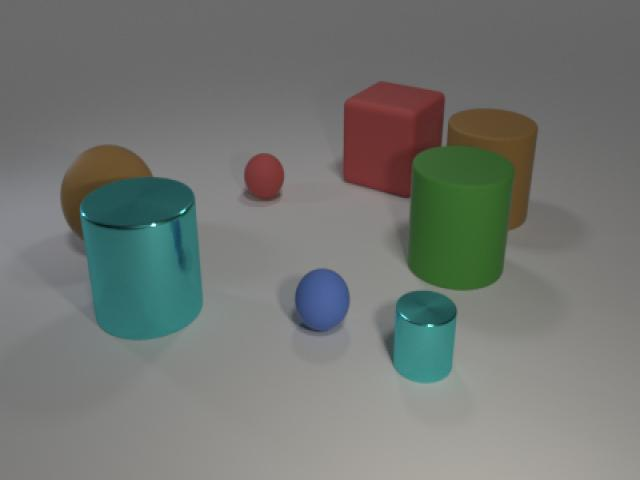cylinder: (72, 170, 212, 344), (404, 138, 514, 291), (447, 100, 540, 235), (388, 290, 462, 386)
round ball: (57, 138, 159, 246), (290, 262, 352, 338), (241, 148, 288, 204)
